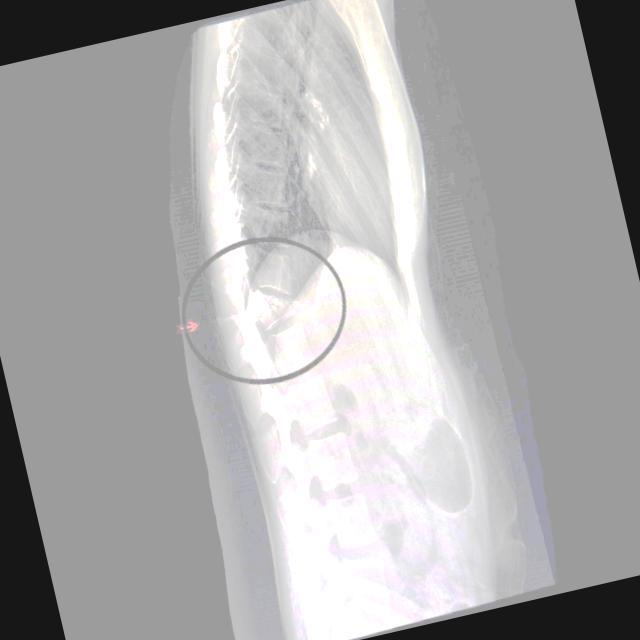Compression-Crush Fracutre: (229, 281, 306, 325)
